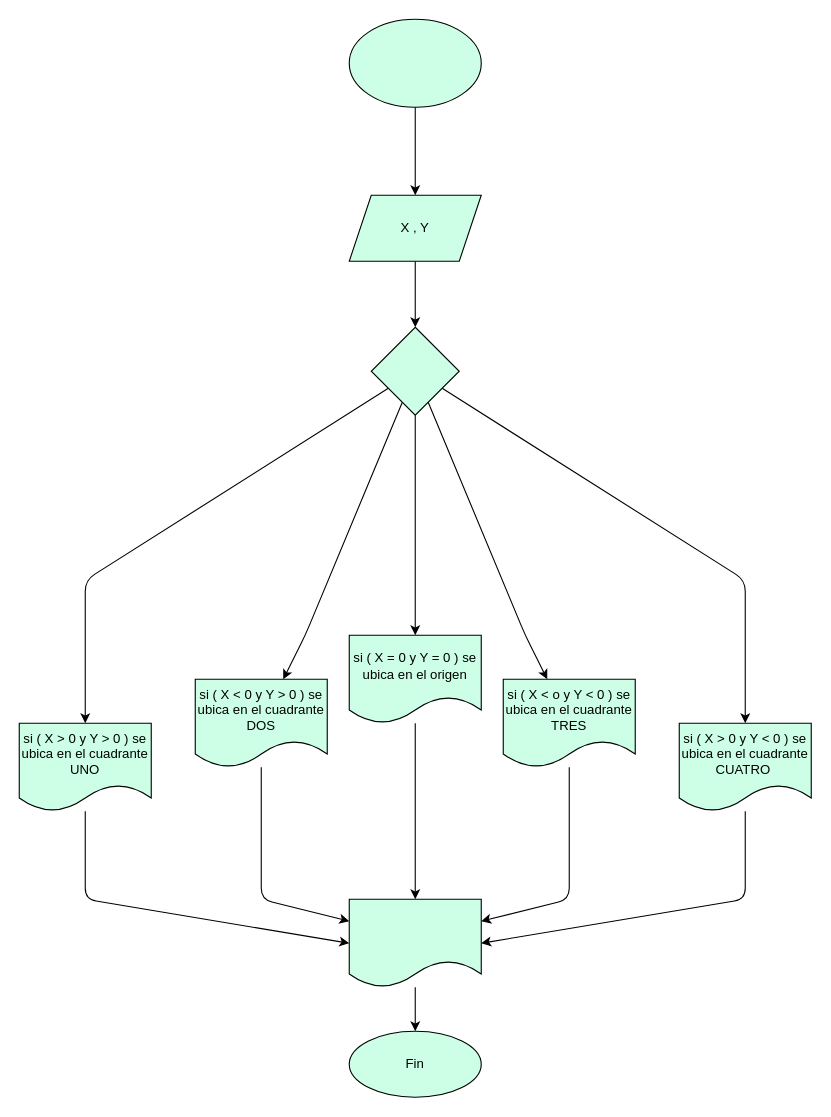
Image size: 831x1117. Some labels were removed from this diagram. Here are the shapes that lost their labels. From the top down, the centre of each, then its label:
At [414,62]: "Inicio".
At [414,370]: "( X , Y )".
At [414,942]: "El punto se ubica en el cuadrante 1, 2, 3, 4 o en el origen".
